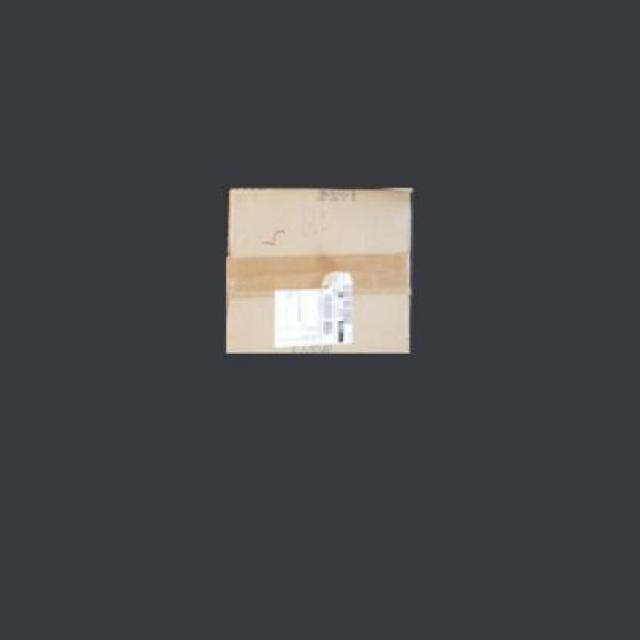cardboxes: (230, 188, 412, 354)
